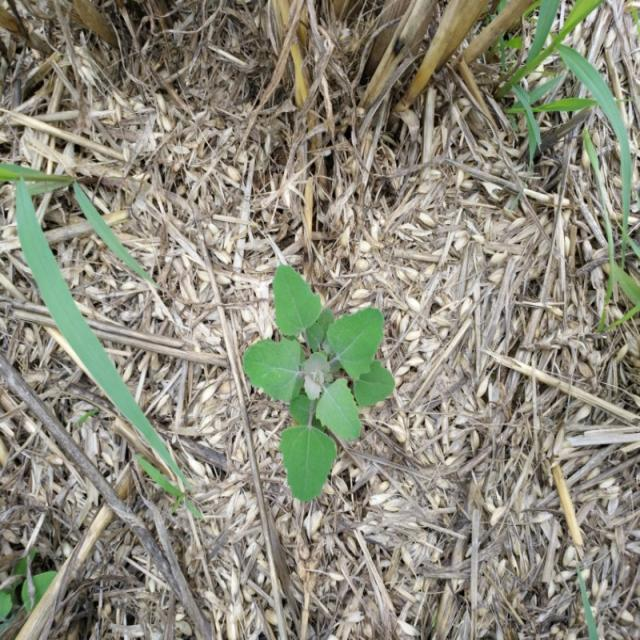goosefoots: (222, 251, 412, 480)
